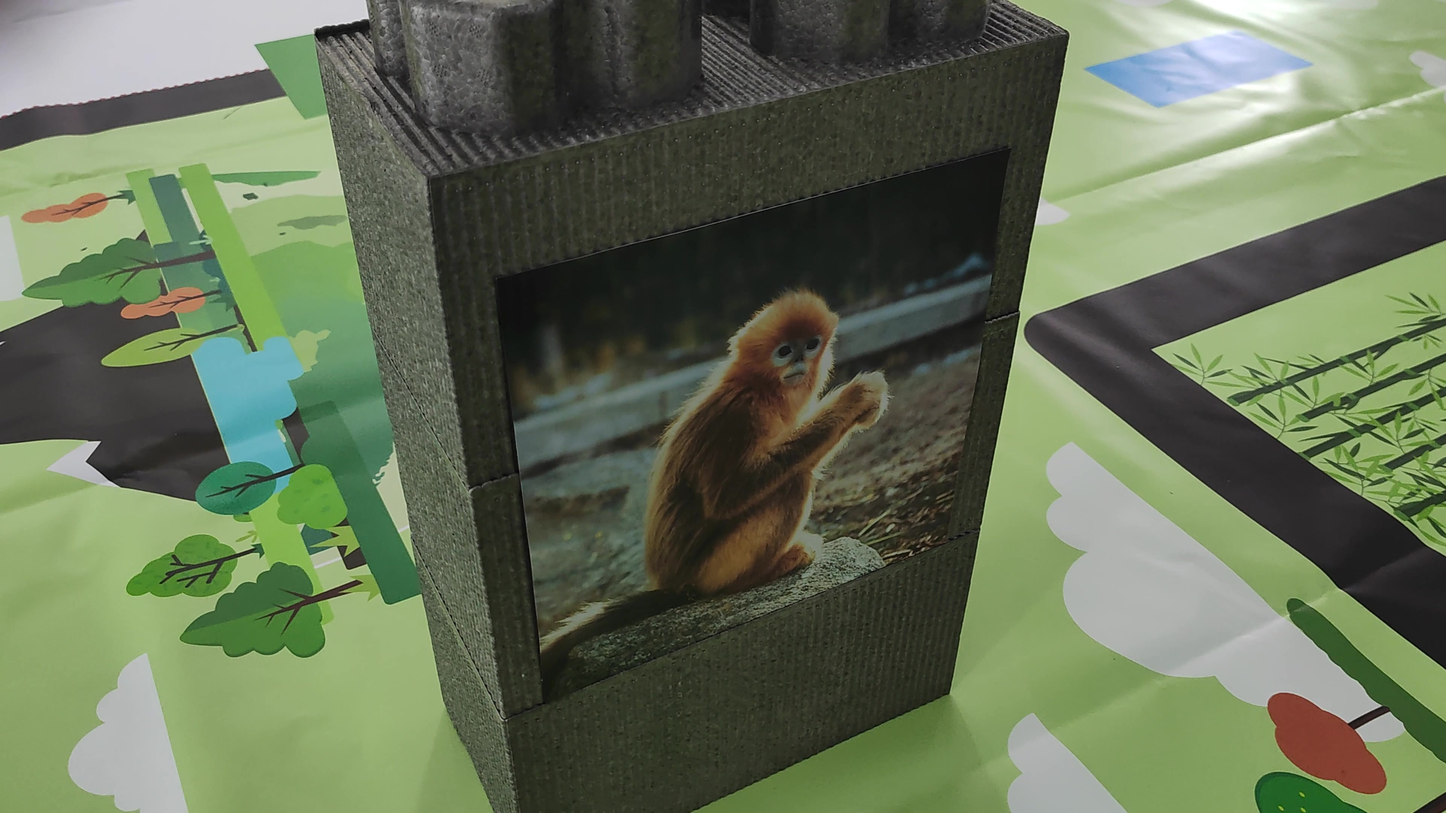monkey: (555, 215, 946, 609)
